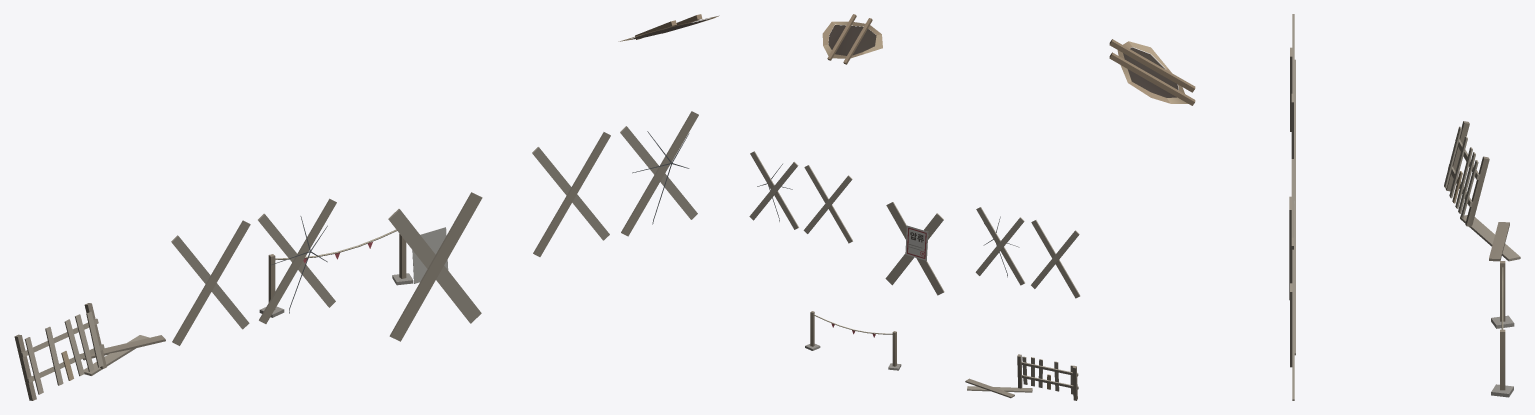
File: house_seized_manor_low.glb
The picture shows the model from 3 angles, left to right: view 1: azimuth 30°, elevation 25°; view 2: azimuth 150°, elevation 25°; view 3: azimuth 270°, elevation 25°; orthographic projection. The views are drawn at different scales.
Size of the model in its own units: 9.66 by 5.77 by 5.31.
